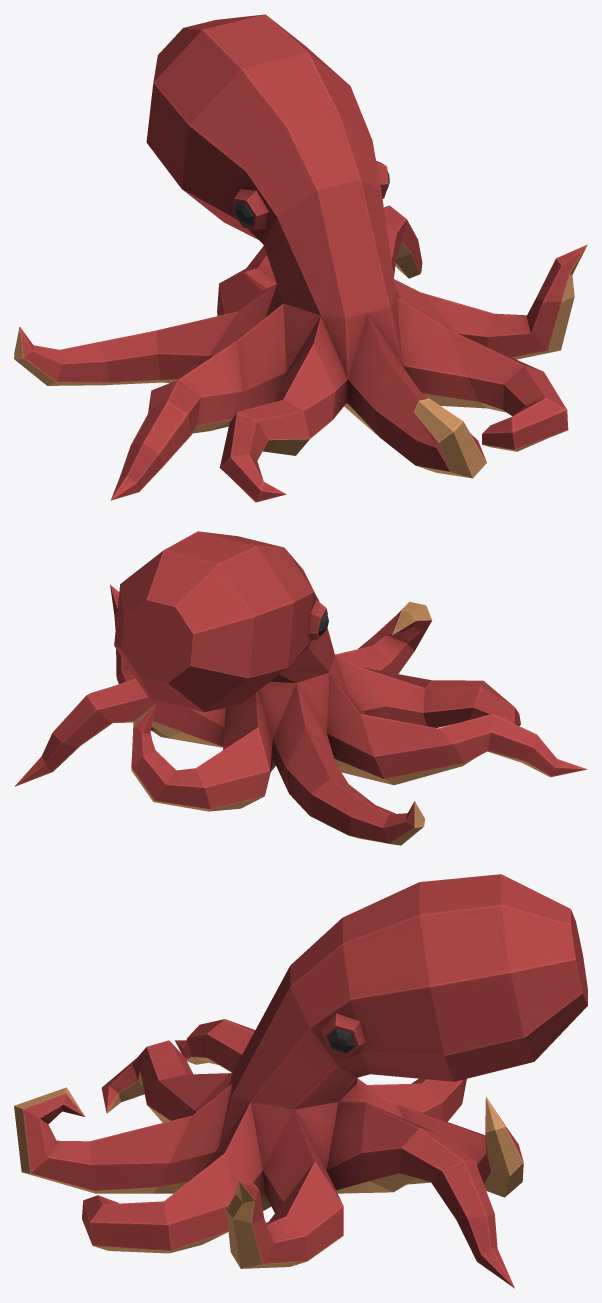
The model's file is v3_octopus.glb.
The picture shows the model from 3 angles, top to bottom: view 1: azimuth 30°, elevation 25°; view 2: azimuth 150°, elevation 25°; view 3: azimuth 270°, elevation 25°; orthographic projection. The views are drawn at different scales.
Visible parts, largest first — view 1: Octopus_mesh; view 2: Octopus_mesh; view 3: Octopus_mesh.
Boxes of the visible parts, left/top/right/bottom form: Octopus_mesh: left=14, top=14, right=587, bottom=502; Octopus_mesh: left=14, top=531, right=587, bottom=845; Octopus_mesh: left=14, top=874, right=587, bottom=1288.
Bounding box in the file's own units: 17.74 × 10.08 × 17.24.
Materials: 1 (1 with a texture image).
